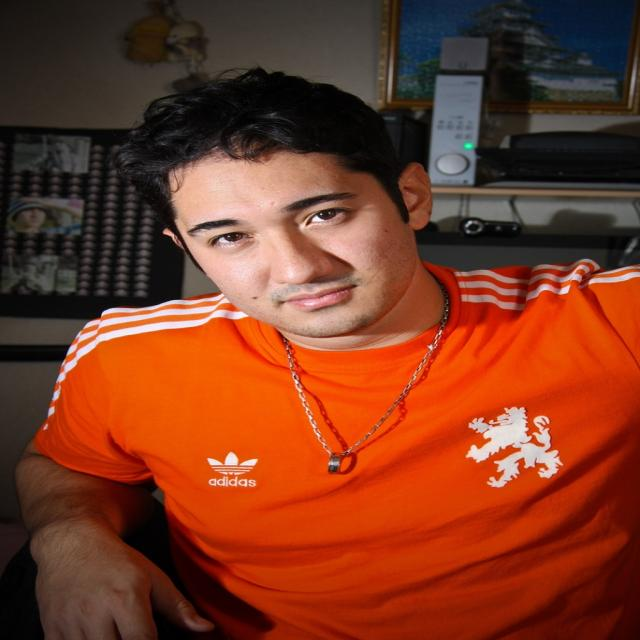adidas: (204, 450, 265, 490)
